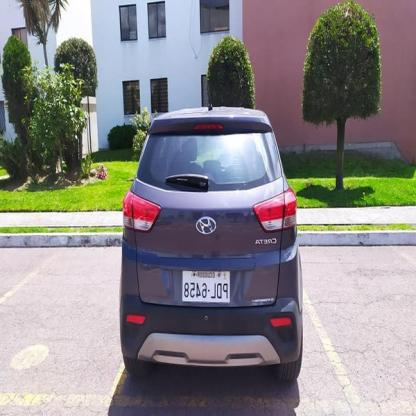Placa: (180, 268, 233, 303)
